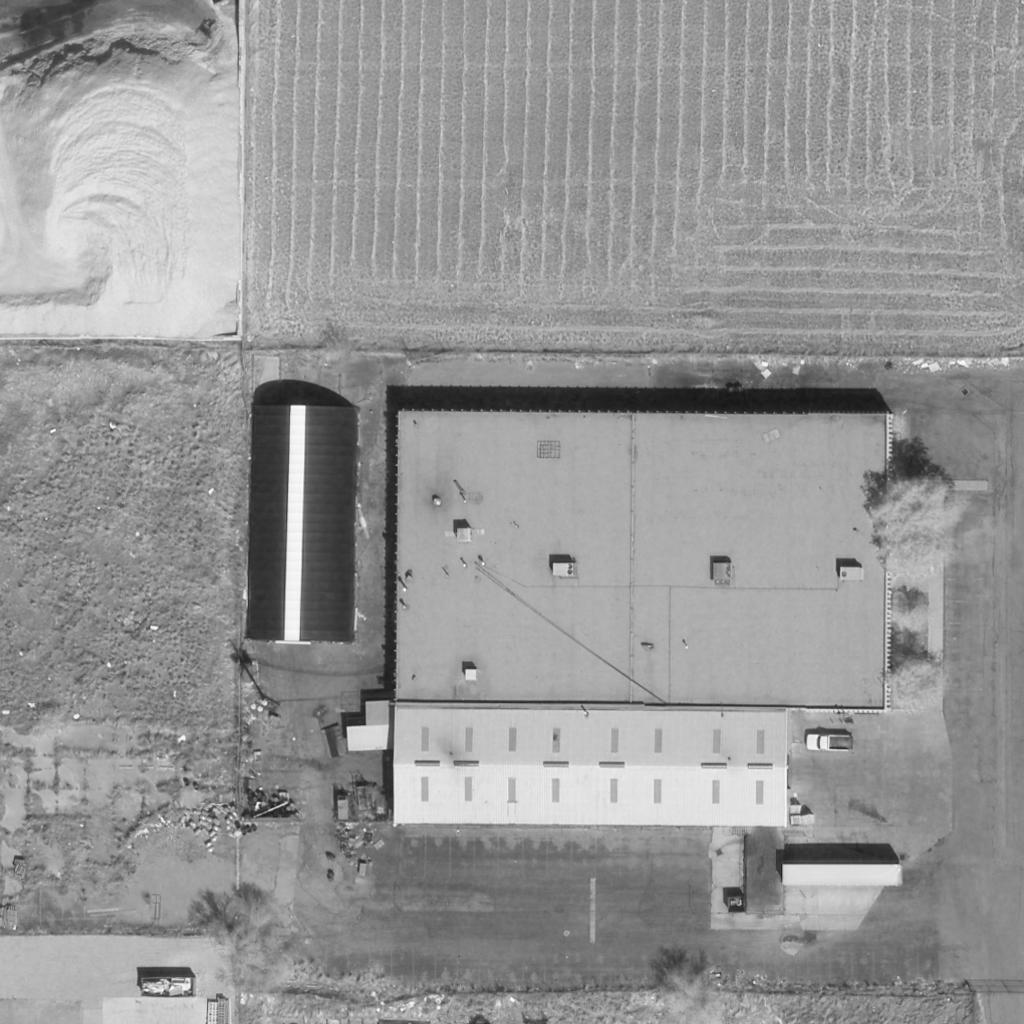vehicle: (806, 734, 854, 752)
